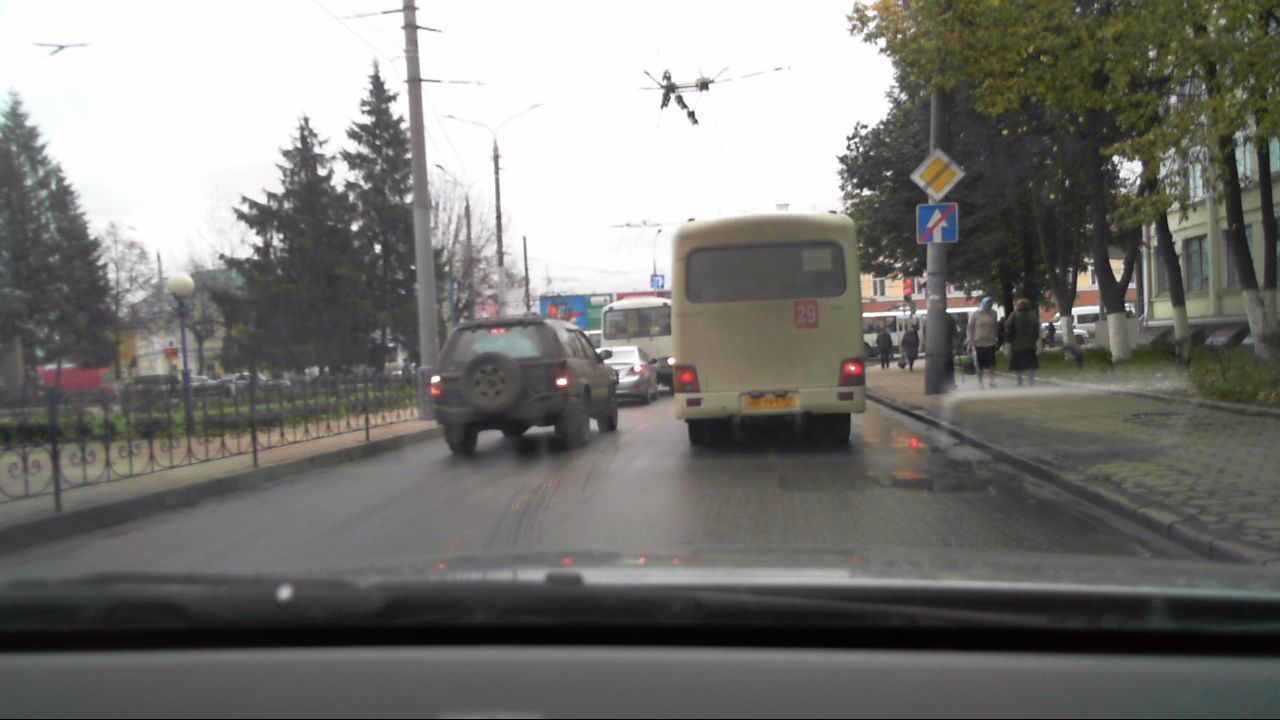main road: (905, 147, 966, 199)
